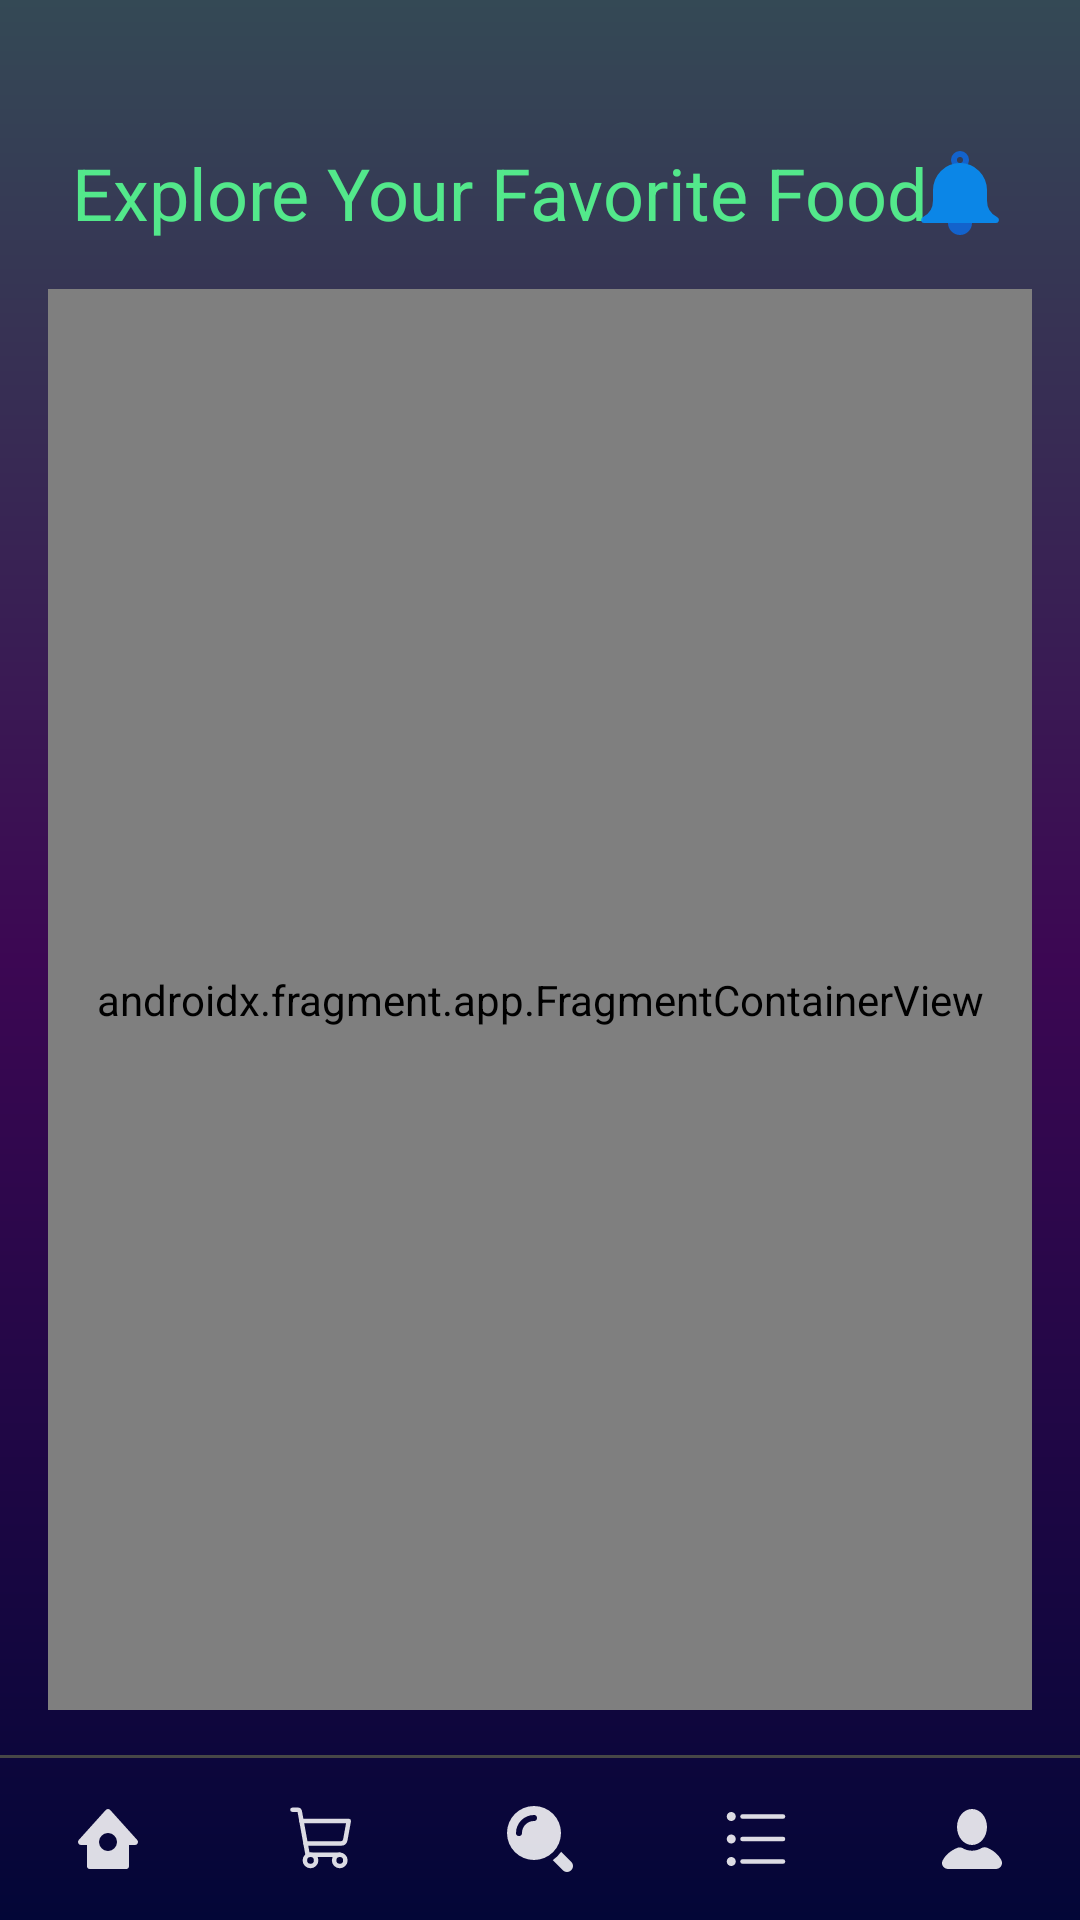

Where icons sit on this 1080x1920 app screen, as rect(x1, y1, x2, y2):
notification: rect(912, 151, 999, 235)
